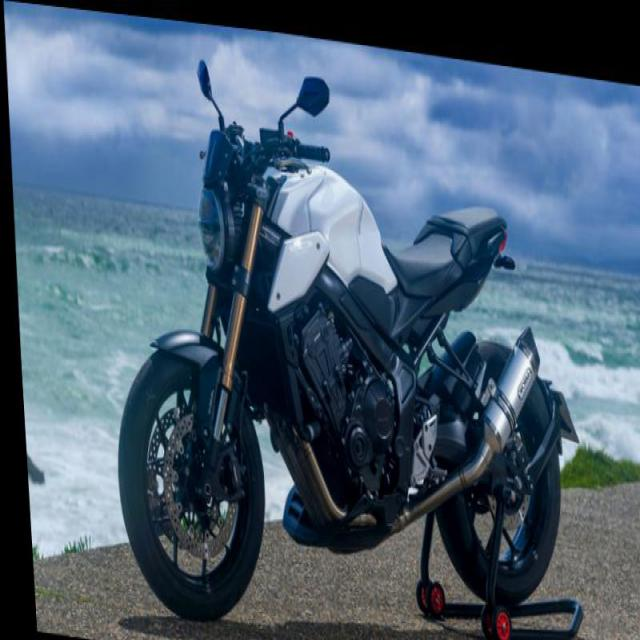CB650R: (89, 36, 590, 638)
